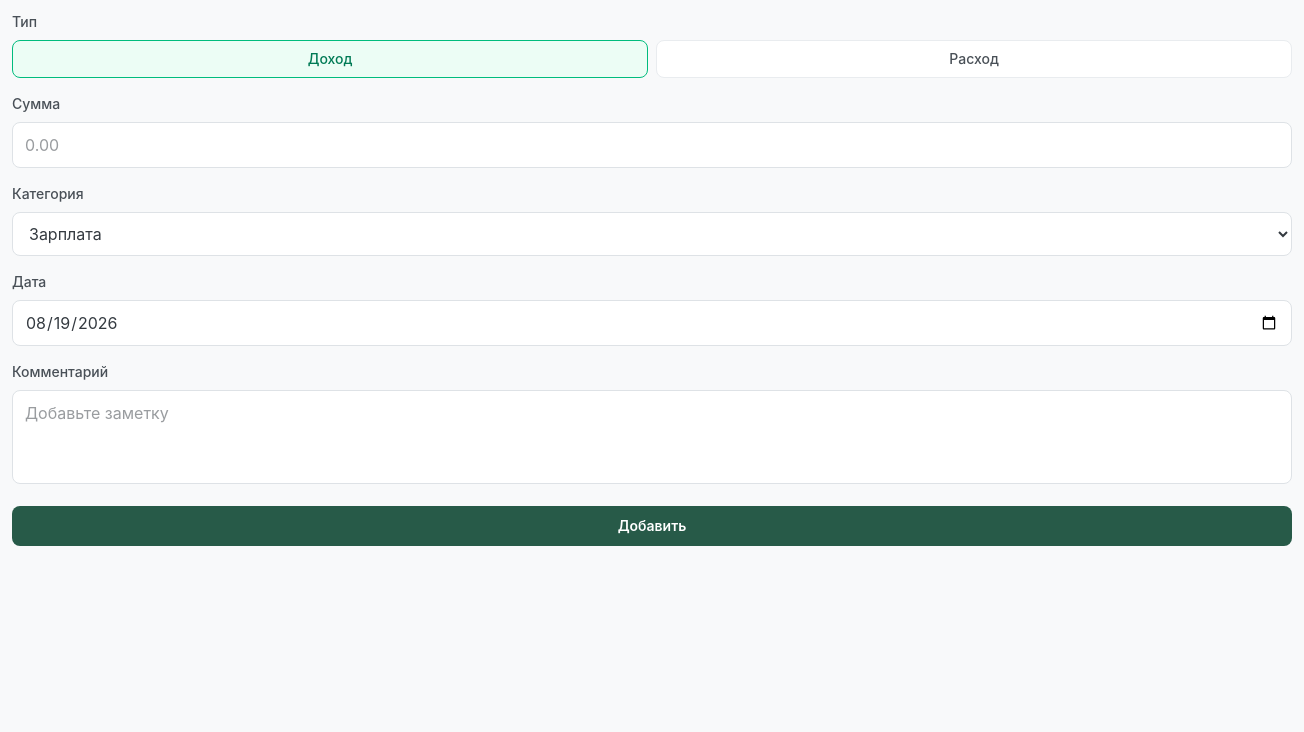
it: TransactionForm › не сабмитится с пустой суммой
Click the button "Добавить" at [652, 526], box [12,506,1292,546]
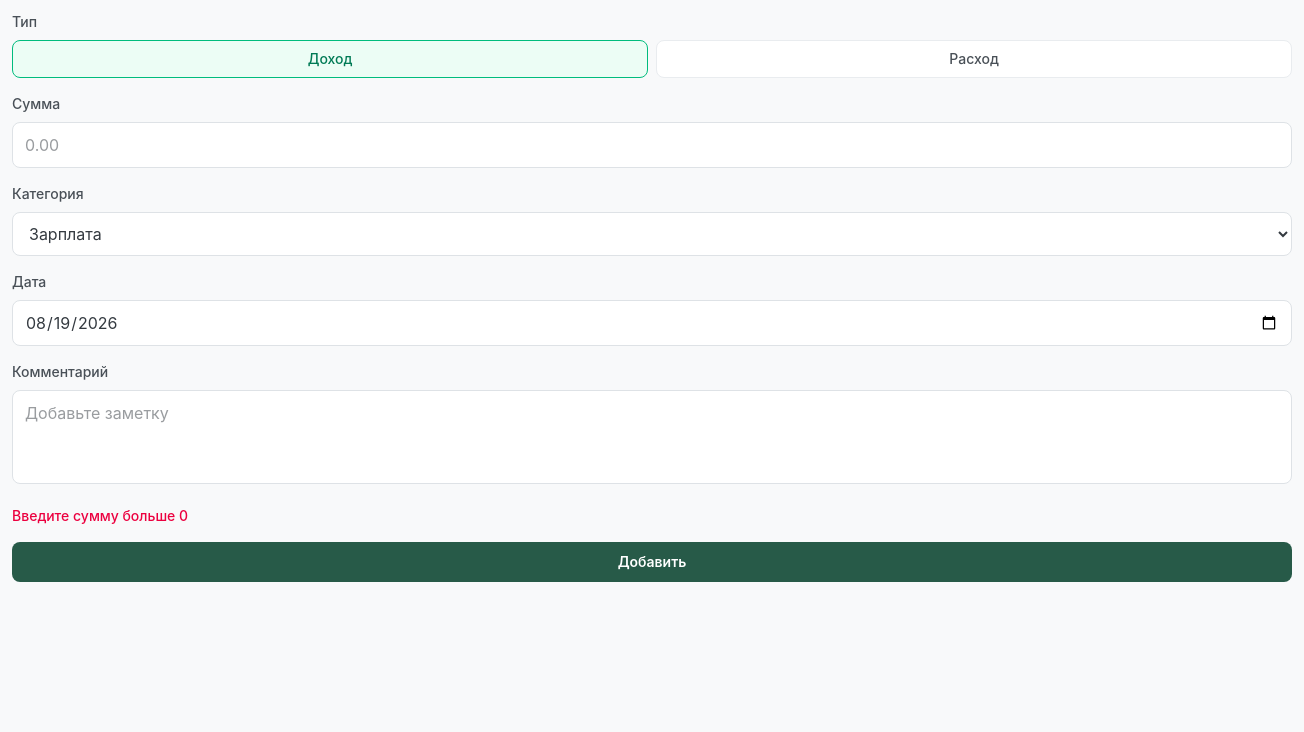
Now the text "Введите сумму больше 0" is shown, box [12,507,188,524]
